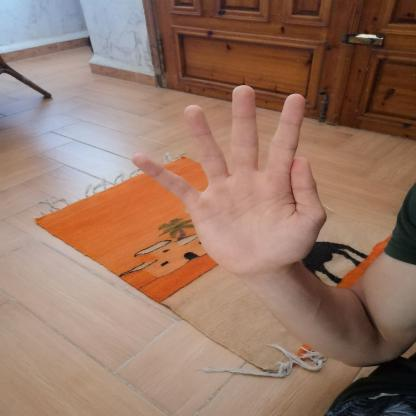SHEEN: (114, 75, 336, 284)
